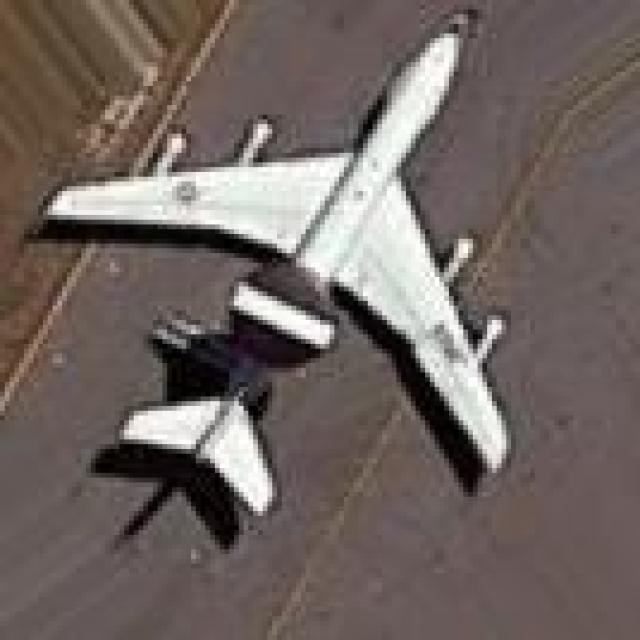E-3_TopDown: (24, 5, 516, 506)
